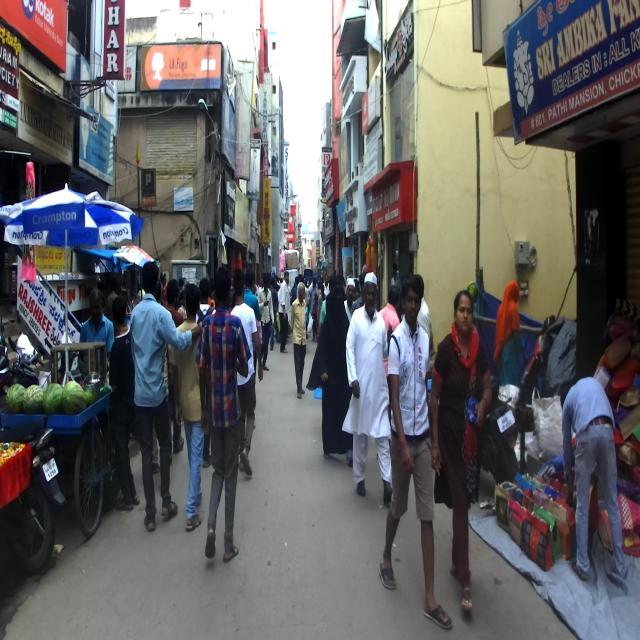person ahead at: (432, 281, 493, 630), (125, 255, 187, 535), (196, 270, 250, 578), (347, 264, 396, 504)
